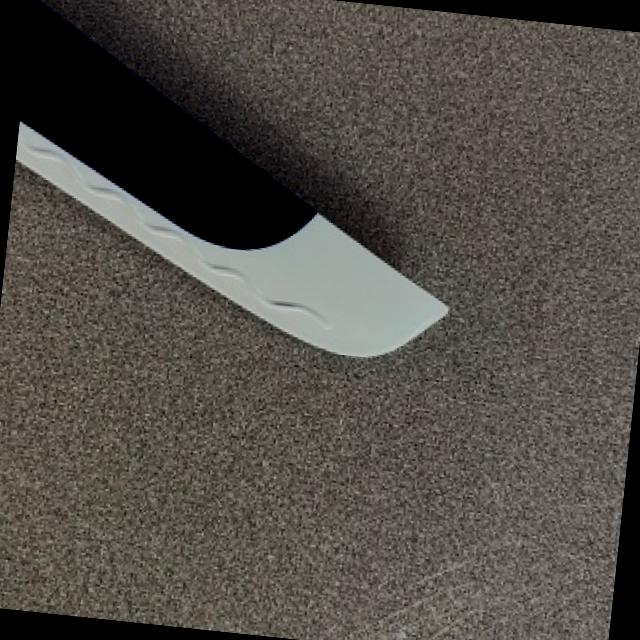healthy: (15, 0, 443, 352)
